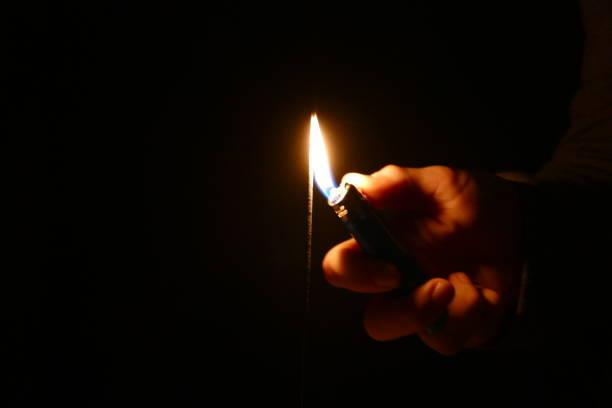Fire: (303, 91, 338, 197)
